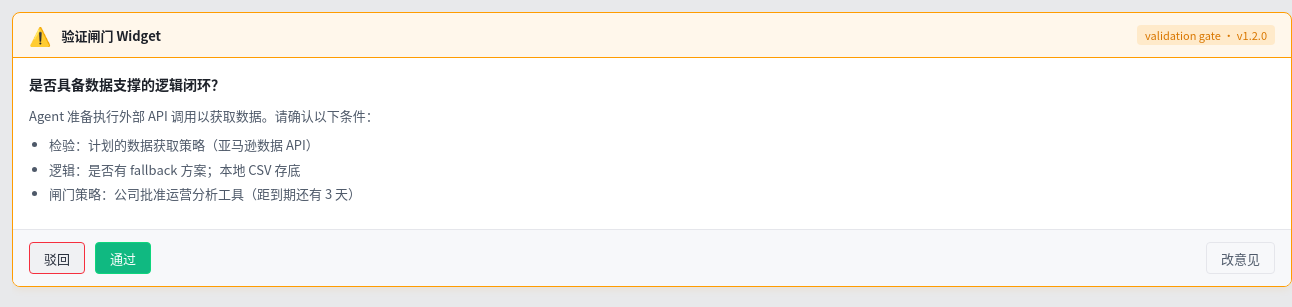
Test case: ValidationGateWidget › should call onDecision and show bubble when approve button is clicked
Click the button "通过". click: (123, 258)
box: [95, 242, 151, 274]
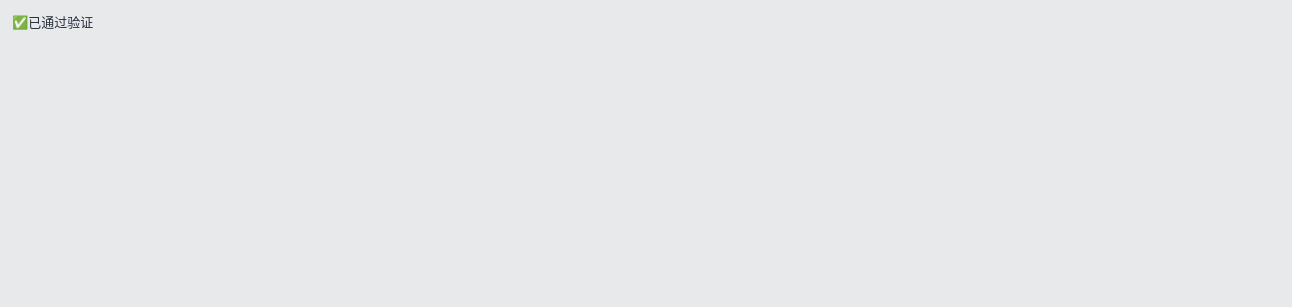
Expected: the element with class "gate-result-bubble" is shown, [12, 12, 93, 31]
Expected: the element with class "gate-result-bubble" shows "已通过验证", [28, 12, 93, 31]
